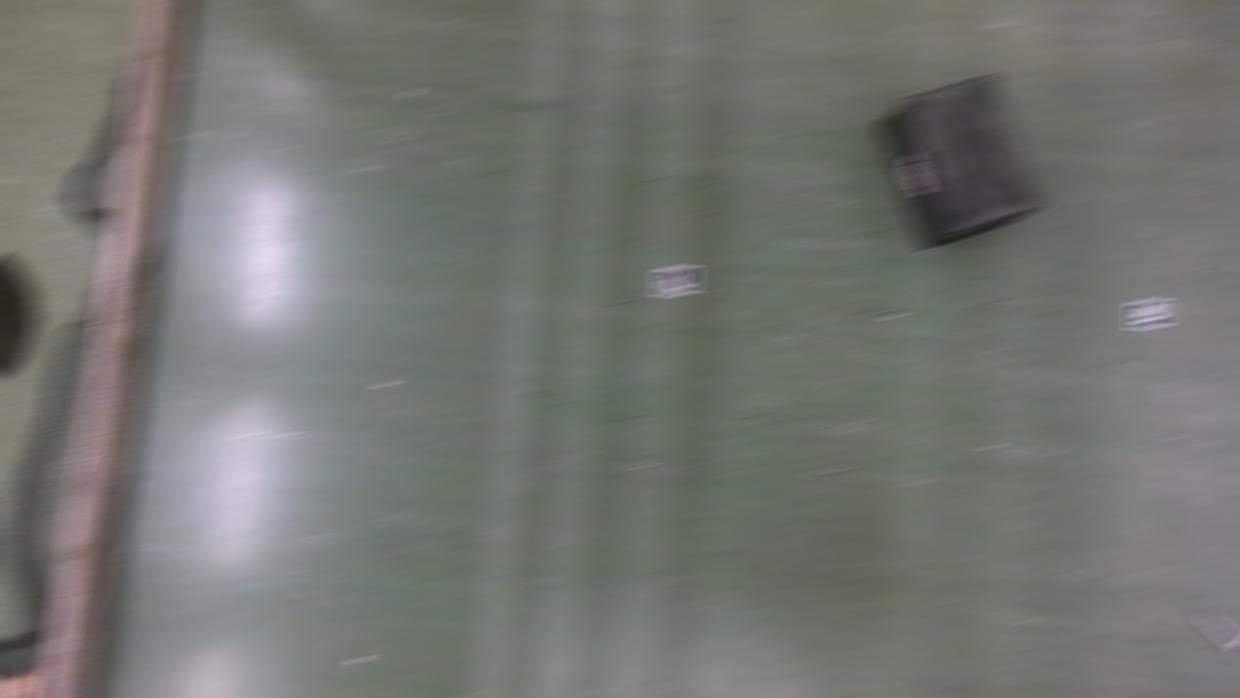probes: (1196, 614, 1240, 648)
rako: (877, 74, 1044, 248)
